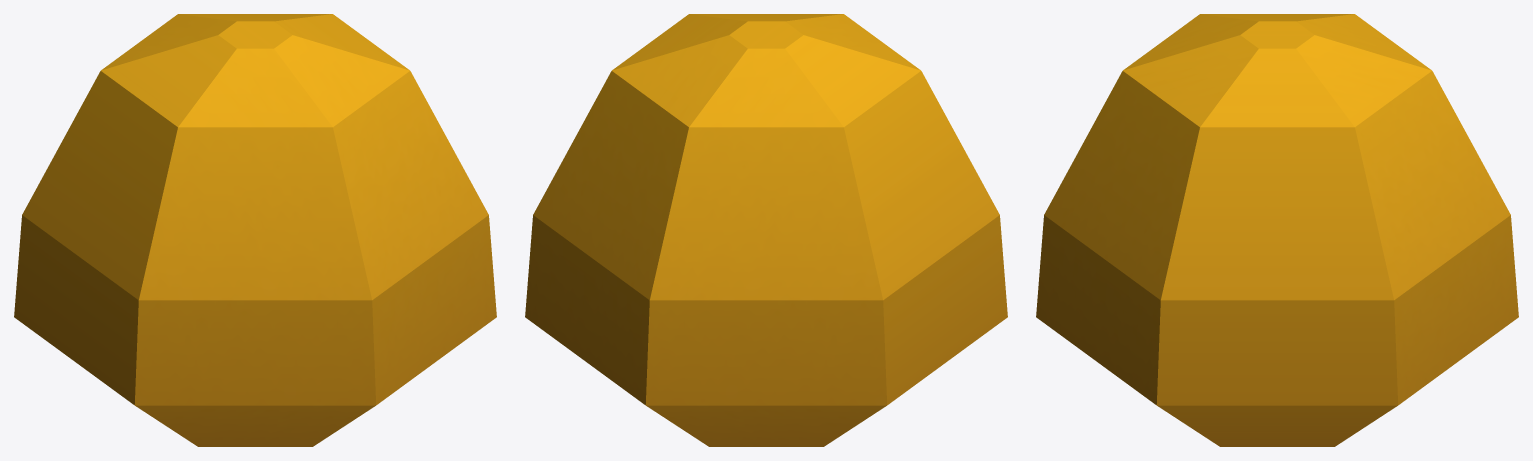
Rendered from cocoAmarillo.fbx.
The picture shows the model from 3 angles, left to right: view 1: azimuth 30°, elevation 25°; view 2: azimuth 150°, elevation 25°; view 3: azimuth 270°, elevation 25°; orthographic projection.
Parts seen in each view (by area): view 1: cocoAmarillo; view 2: cocoAmarillo; view 3: cocoAmarillo.
Part boxes in pixels (<box>): cocoAmarillo: <box>14,14,496,446</box>; cocoAmarillo: <box>525,14,1007,446</box>; cocoAmarillo: <box>1036,14,1518,446</box>.
Bounding box in the file's own units: 21.66 × 21.14 × 25.01.
1 material, 1 textured.
